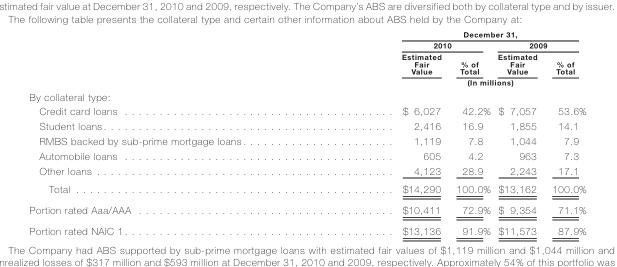table: (28, 29, 585, 236)
table column: (28, 29, 323, 236), (323, 29, 448, 236), (493, 29, 544, 236), (448, 29, 493, 236), (544, 29, 585, 236)
table column header: (28, 29, 585, 88)
table projected row header: (28, 88, 585, 103)
table row: (28, 50, 585, 76), (28, 199, 585, 220), (28, 179, 585, 199), (28, 162, 585, 179), (28, 220, 585, 236), (28, 88, 585, 103), (28, 103, 585, 118), (28, 118, 585, 133), (28, 147, 585, 162), (28, 133, 585, 147), (28, 76, 585, 88), (28, 39, 585, 50), (28, 29, 585, 39)
table spanning cell: (323, 76, 585, 88), (323, 29, 585, 39), (323, 39, 493, 50), (493, 39, 585, 50)
